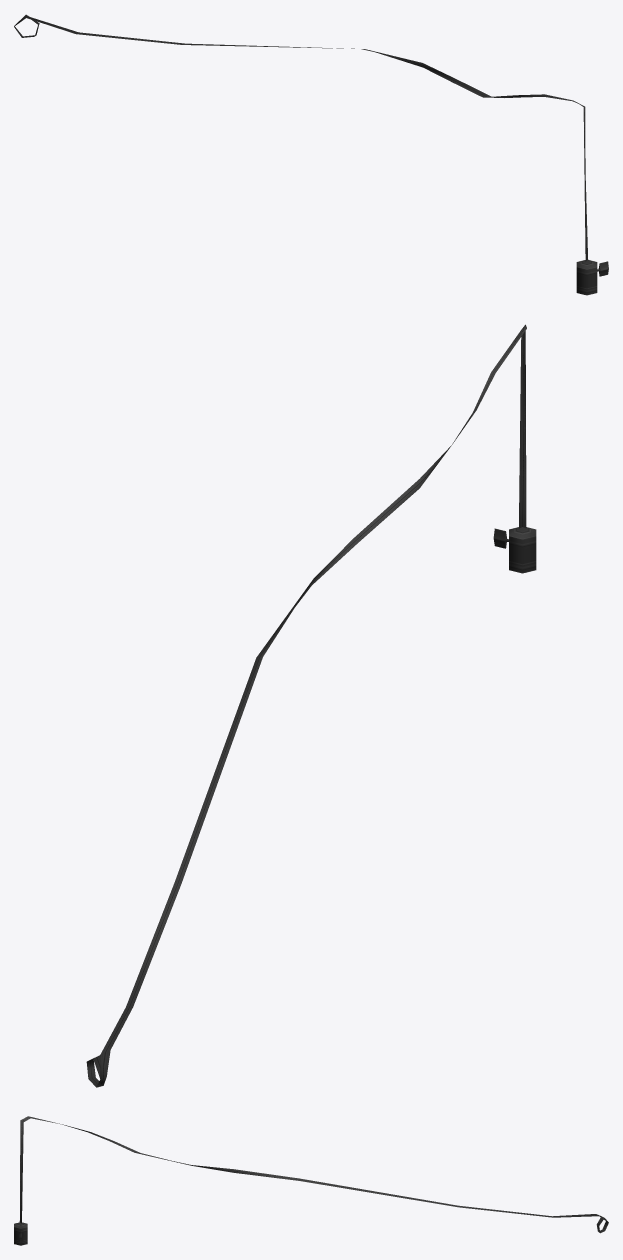
File: jsf_4P_Light_s01_c.fbx
The picture shows the model from 3 angles, top to bottom: view 1: azimuth 30°, elevation 25°; view 2: azimuth 150°, elevation 25°; view 3: azimuth 270°, elevation 25°; orthographic projection. The views are drawn at different scales.
Visible parts, largest first — view 1: jsf_4P_Light_s01_c; view 2: jsf_4P_Light_s01_c; view 3: jsf_4P_Light_s01_c.
Part boxes in pixels (bbox=[...]): jsf_4P_Light_s01_c: bbox=[14, 14, 608, 295]; jsf_4P_Light_s01_c: bbox=[86, 324, 536, 1087]; jsf_4P_Light_s01_c: bbox=[14, 1116, 608, 1245].
Bounding box in the file's own units: 23.73 × 34.63 × 124.
